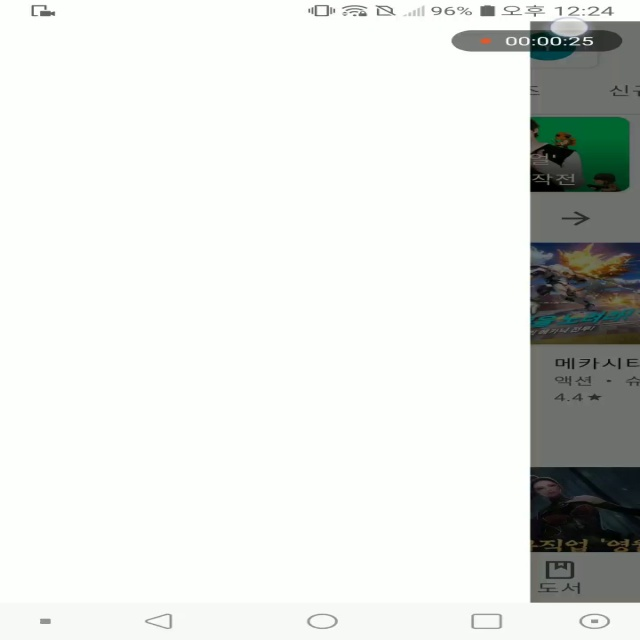Cursor: (547, 16, 592, 39)
